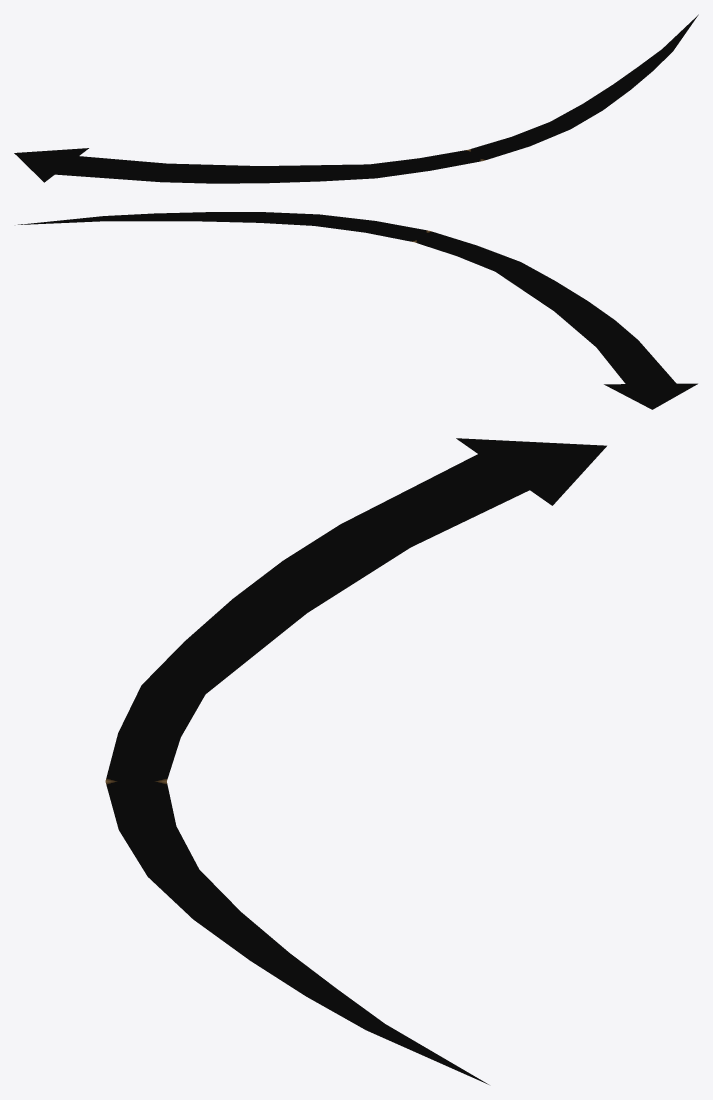
File: arrow04-02.FBX
3 views of the same model, one above another, from view 1: azimuth 30°, elevation 25°; view 2: azimuth 150°, elevation 25°; view 3: azimuth 270°, elevation 25° (orthographic). The views are drawn at different scales.
Parts seen in each view (by area): view 1: Box008; view 2: Box008; view 3: Box008.
Part boxes in pixels (x1,y1,x2,y2): Box008: [14, 14, 698, 183]; Box008: [18, 212, 697, 409]; Box008: [105, 438, 606, 1084].
Bounding box in the file's own units: 1609 × 8.53e-14 × 527.
